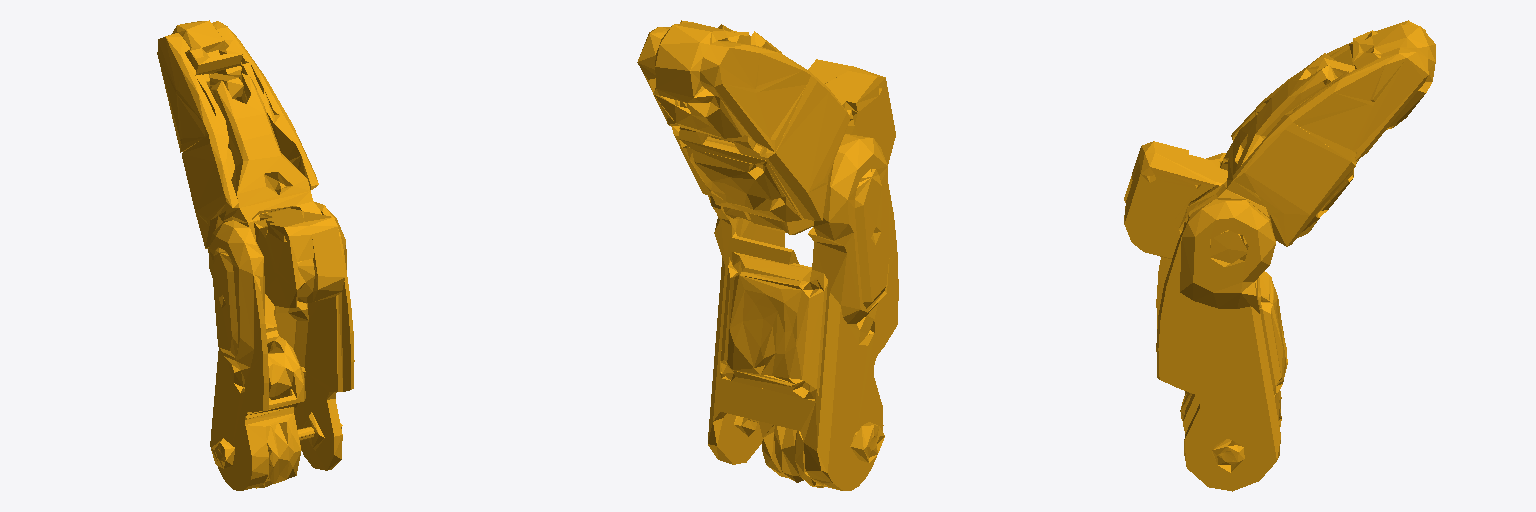
URDF robot description (GLF2distal):
<robot name="GLF2distal">
  <joint name="GLF2Gear" type="revolute">
    <origin xyz="0.0 0.0 0.053" rpy="1.2885 0.0 0.0"/>
    <axis xyz="1.0 0.0 0.0"/>
    <parent link="GLF2ProximalSegment_Link"/>
    <child link="GLF2Gear_Link"/>
    <limit effort="400.0" lower="-3.1415926" upper="3.1415926" velocity="3.1415926"/>
    <mimic joint="GLF2ProximalSegment" multiplier="-1.0" offset="0.0"/>
  </joint>
  <link name="GLF2Gear_Link">
    <inertial>
      <origin xyz="0.00042134 0.00032509 0.0086803" rpy="0.0 0.0 0.0"/>
      <mass value="0.024785"/>
      <inertia ixx="1.1031768852531896e-05" ixy="-3.314199999999995e-09" ixz="-1.3220000000000009e-08" iyy="1.04518688525319e-05" iyz="-1.0513000000000047e-07" izz="1.0024648852531899e-05"/>
    </inertial>
    <visual name="GLF2Gear_Visual">
      <origin xyz="0.0 0.0 0.0" rpy="0.0 0.0 0.0"/>
      <geometry>
        <mesh filename="../meshes/lfs-stl/F_Gear_Frame.stl"/>
      </geometry>
      <material name="">
        <color rgba="0.94118 0.67451 0.11765 1.0"/>
      </material>
    </visual>
    <collision name="GLF2Gear_Collision">
      <origin xyz="0.0 0.0 0.0" rpy="0.0 0.0 0.0"/>
      <geometry>
        <mesh filename="../meshes/lfs-stl/F_Gear_Frame_convexhull.stl" scale="1.0 1.0 1.0"/>
      </geometry>
    </collision>
  </link>
  <link name="GLF2ProximalSegment_Link">
    <inertial>
      <origin xyz="-0.0020803 0.000387 0.0216" rpy="0.0 0.0 0.0"/>
      <mass value="0.054293"/>
      <inertia ixx="2.0885480277942027e-05" ixy="-1.4302000000000018e-08" ixz="-2.6832000000000287e-07" iyy="2.3749480277942032e-05" iyz="6.182299999999969e-07" izz="1.0034380277942036e-05"/>
    </inertial>
    <visual name="GLF2ProximalSegment_Visual">
      <origin xyz="0.0 0.0 0.0" rpy="0.0 0.0 0.0"/>
      <geometry>
        <mesh filename="../meshes/lfs-stl/F_ProximalSegment_Frame.stl"/>
      </geometry>
      <material name="">
        <color rgba="0.94118 0.67451 0.11765 1.0"/>
      </material>
    </visual>
    <collision name="GLF2ProximalSegment_Collision">
      <origin xyz="0.0 0.0 0.0" rpy="0.0 0.0 0.0"/>
      <geometry>
        <mesh filename="../meshes/lfs-stl/F_ProximalSegment_Frame_convexhull.stl" scale="1.0 1.0 1.0"/>
      </geometry>
    </collision>
  </link>
  <joint name="GLF2TopSegment" type="revolute">
    <origin xyz="0.0 0.0 0.0" rpy="0.0 0.0 0.0"/>
    <axis xyz="1.0 0.0 0.0"/>
    <parent link="GLF2Gear_Link"/>
    <child link="GLF2TopSegment_Link"/>
    <limit effort="400.0" lower="0.0" upper="2.1" velocity="3.1415926"/>
  </joint>
  <link name="GLF2TopSegment_Link">
    <inertial>
      <origin xyz="0.00093543 0.026024 -0.013282" rpy="0.0 0.0 0.0"/>
      <mass value="0.049549"/>
      <inertia ixx="1.1651277429850969e-05" ixy="4.429600000000007e-07" ixz="-6.034000000000013e-08" iyy="1.0300577429850967e-05" iyz="7.458100000000004e-07" izz="1.319687742985097e-05"/>
    </inertial>
    <visual name="GLF2TopSegment_Visual">
      <origin xyz="0.0 0.0 0.0" rpy="0.0 0.0 0.0"/>
      <geometry>
        <mesh filename="../meshes/lfs-stl/F_TopSegment_Frame.stl"/>
      </geometry>
      <material name="">
        <color rgba="0.94118 0.67451 0.11765 1.0"/>
      </material>
    </visual>
    <collision name="GLF2TopSegment_Collision">
      <origin xyz="0.0 0.0 0.0" rpy="0.0 0.0 0.0"/>
      <geometry>
        <mesh filename="../meshes/lfs-stl/F_TopSegment_Frame_convexhull.stl" scale="1.0 1.0 1.0"/>
      </geometry>
    </collision>
  </link>
</robot>

--- What the picture shows (computed from the rendered views, not written in the file) ---
The picture shows the robot from 3 angles, left to right: view 1: azimuth 30°, elevation 25°; view 2: azimuth 150°, elevation 25°; view 3: azimuth 270°, elevation 25°; orthographic projection.
Robot: GLF2distal — 3 links, 2 joints (2 revolute); root link GLF2ProximalSegment_Link; default pose: all joints at 0.
Links seen in each view (by area): view 1: GLF2ProximalSegment_Link, GLF2TopSegment_Link, GLF2Gear_Link; view 2: GLF2ProximalSegment_Link, GLF2TopSegment_Link, GLF2Gear_Link; view 3: GLF2ProximalSegment_Link, GLF2TopSegment_Link, GLF2Gear_Link.
Boxes of the visible links, x1,y1,x2,y2 form: GLF2ProximalSegment_Link: (208,202,354,490); GLF2TopSegment_Link: (157,20,321,248); GLF2Gear_Link: (254,208,344,307); GLF2ProximalSegment_Link: (708,134,898,490); GLF2TopSegment_Link: (637,20,852,221); GLF2Gear_Link: (748,59,895,234); GLF2ProximalSegment_Link: (1156,153,1287,491); GLF2TopSegment_Link: (1183,20,1435,263); GLF2Gear_Link: (1124,141,1227,258).
Size in the robot's own frame: 0.0349 by 0.0727 by 0.1127 metres.
3 mesh visuals loaded from 3 distinct referenced files (3 binary STL).